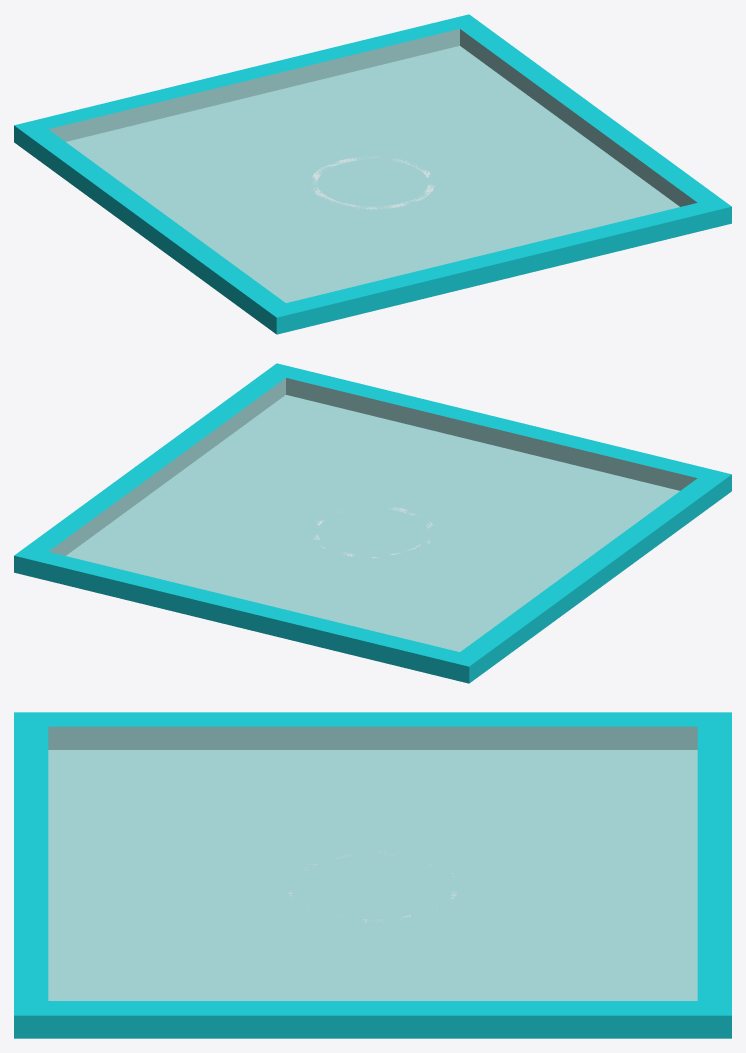
File: mainboard.glb
3 views of the same model, one above another, from view 1: azimuth 30°, elevation 25°; view 2: azimuth 150°, elevation 25°; view 3: azimuth 270°, elevation 25° (orthographic). The views are drawn at different scales.
Parts seen in each view (by area): view 1: middlemain; view 2: middlemain; view 3: middlemain.
Part boxes in pixels (bbox=[...]): middlemain: bbox=[14, 14, 731, 334]; middlemain: bbox=[14, 363, 731, 683]; middlemain: bbox=[14, 712, 731, 1038].
Size of the model in its own units: 2 by 0.0713 by 2.
